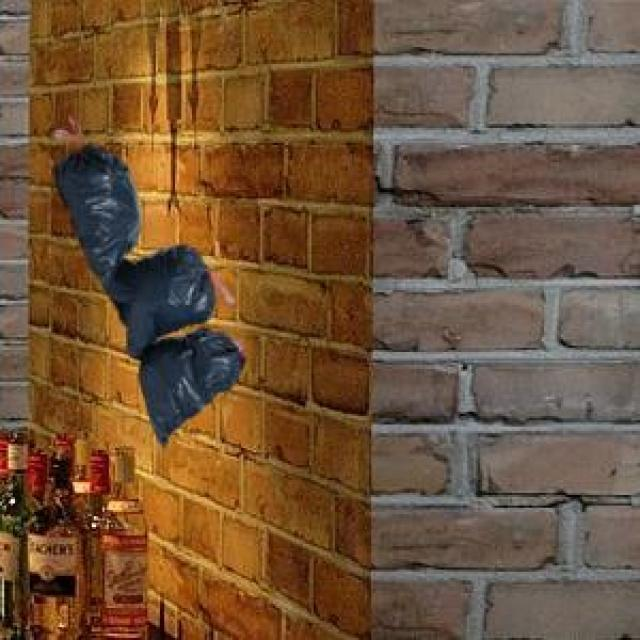waste: (56, 145, 244, 443)
